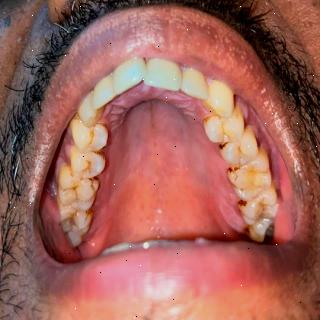UL1BC_mdecay: (202, 115, 244, 142)
UL1M_sdecay: (228, 155, 272, 199)
UL2BC_sdecay: (219, 137, 259, 163)
UL2M_sdecay: (238, 191, 278, 224)
UL3M_sdecay: (245, 219, 274, 241)
ULCI_healthy: (146, 58, 181, 90)
ULC_healthy: (208, 79, 234, 116)
ULLI_healthy: (182, 67, 209, 99)
UR1BC_mdecay: (71, 119, 107, 150)
UR1M_sdecay: (58, 167, 99, 206)
UR2BC_mdecay: (70, 150, 105, 178)
UR2M_sdecay: (59, 204, 93, 226)
UR3M_sdecay: (61, 225, 85, 248)
URCI_healthy: (113, 56, 145, 92)
URC_mdecay: (77, 91, 103, 127)
URLI_healthy: (93, 76, 113, 109)
